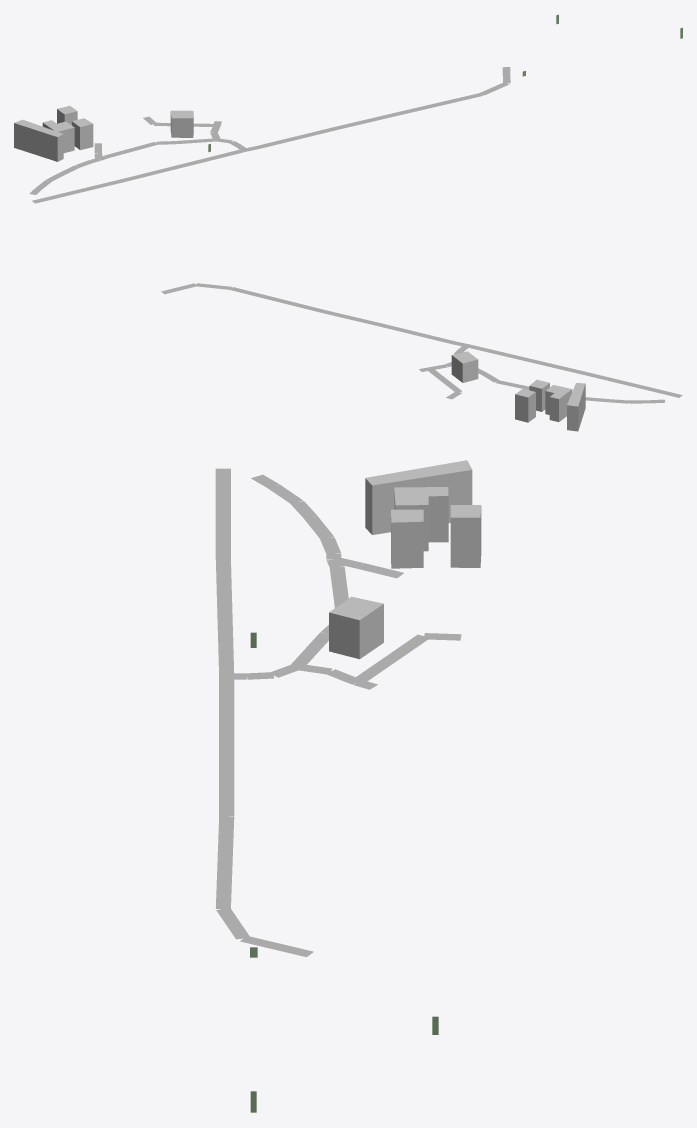
3 views of the same model, one above another, from view 1: azimuth 30°, elevation 25°; view 2: azimuth 150°, elevation 25°; view 3: azimuth 270°, elevation 25° (orthographic). The views are drawn at different scales.
Size of the model in its own units: 501 by 19.46 by 87.65.
